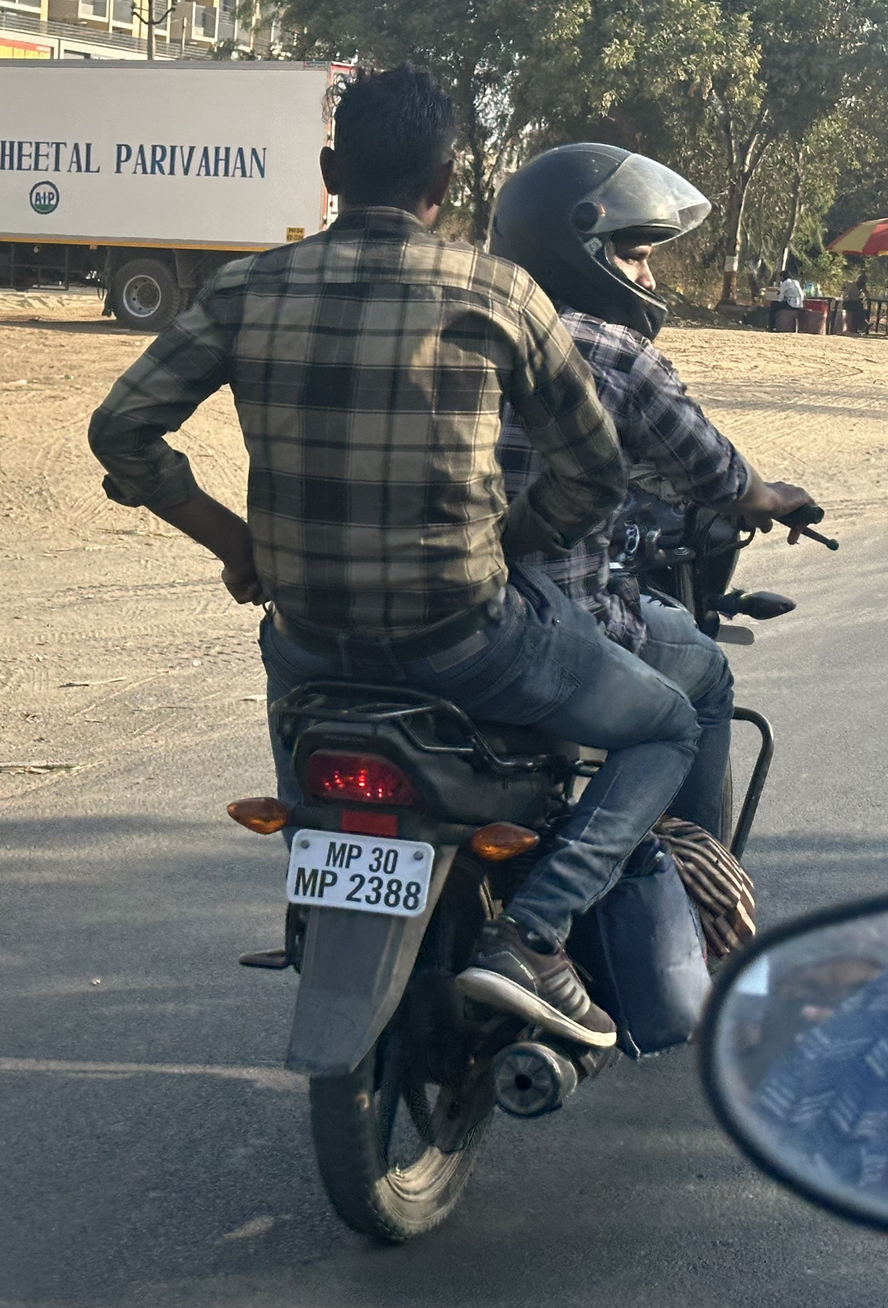BikeWithRider: (70, 44, 856, 1257)
Helmet: (473, 124, 718, 349)
NoHelmet: (301, 55, 476, 242)
